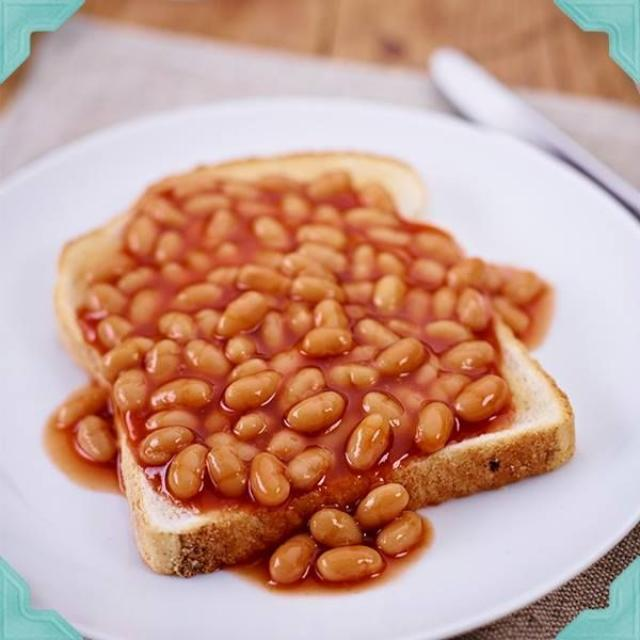sliced_bread: (391, 321, 574, 508), (390, 325, 574, 507), (122, 434, 293, 576), (54, 212, 127, 378), (388, 163, 420, 212), (278, 155, 333, 176), (348, 155, 393, 178)
